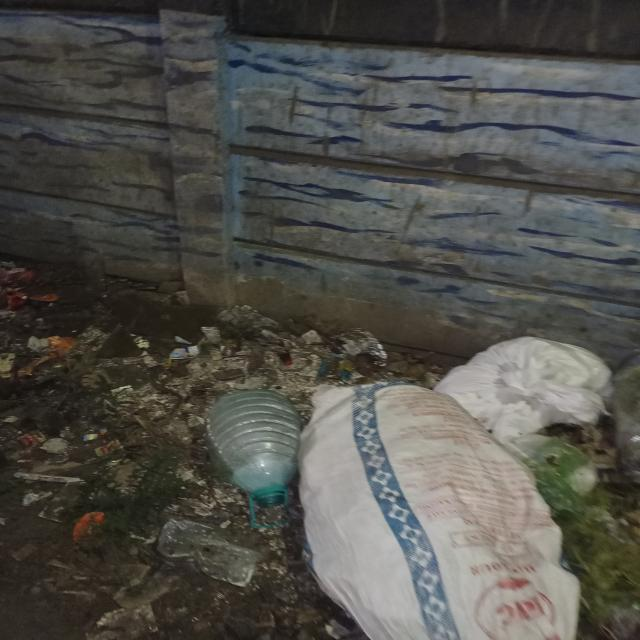garbage: (11, 315, 639, 640)
